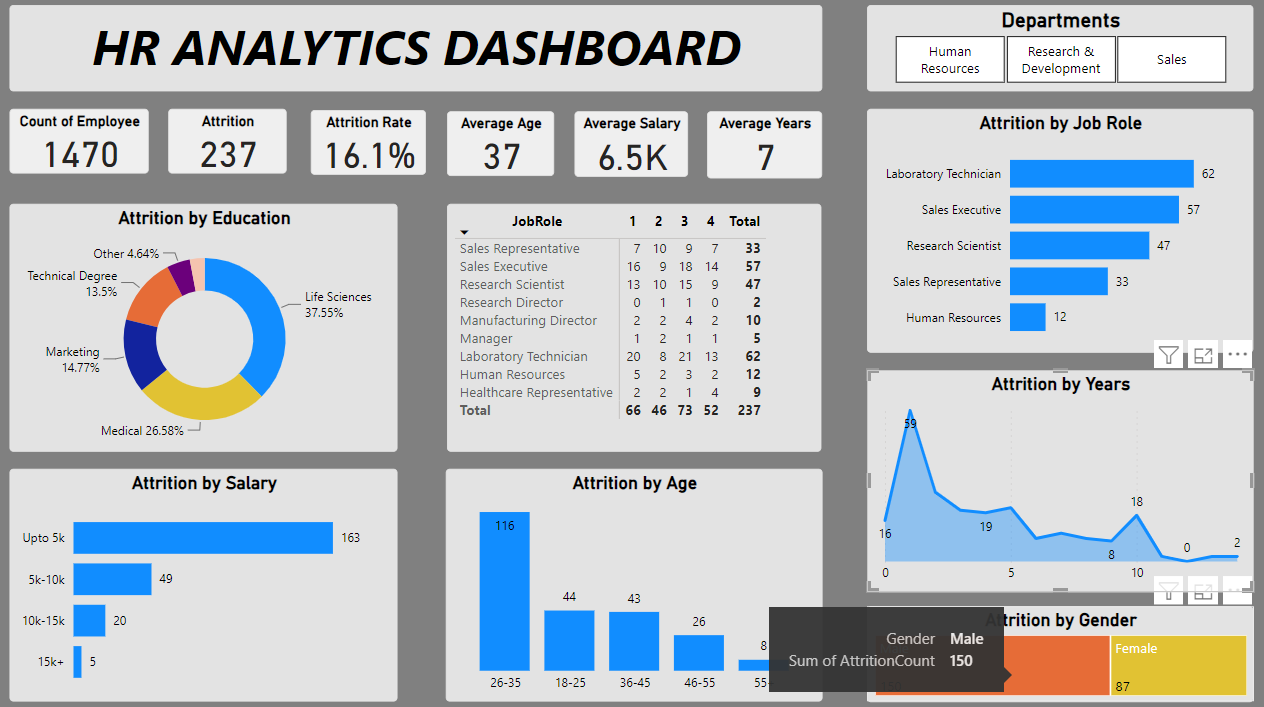

This screenshot's page, from the dashboard's own definition file:
{"tool":"powerbi","page":{"name":"Page 1","canvas":[1280,720],"ordinal":0},"visuals":[{"type":"card","title":"Count of Employee","fields":{"Values":["CountNonNull(HR_Analytics.EmpID)"]},"box":[17,113.8,139.4,64.9],"z":0},{"type":"card","title":"Attrition","fields":{"Values":["Sum(HR_Analytics.AttritionCount)"]},"box":[176.6,113.8,118.1,64.9],"z":1000},{"type":"card","title":"Attrition Rate","fields":{"Values":["HR_Analytics.AttritionRate"]},"box":[319.1,114.9,114.9,64.9],"z":2000},{"type":"card","title":"Average Age ","fields":{"Values":["Avg(HR_Analytics.Age)"]},"box":[455.3,116,107.4,64.9],"z":3000},{"type":"card","title":"Average Salary","fields":{"Values":["Avg(HR_Analytics.MonthlyIncome)"]},"box":[583,116,113.8,66],"z":4000},{"type":"card","title":"Average Years ","fields":{"Values":["Avg(HR_Analytics.YearsAtCompany)"]},"box":[714.9,116,114.9,67],"z":5000},{"type":"donutChart","title":"Attrition by Education","fields":{"Category":["HR_Analytics.EducationField"],"Y":["Sum(HR_Analytics.AttritionCount)"]},"box":[17,208.5,388.3,247.9],"z":6000},{"type":"columnChart","title":"Attrition by Age","fields":{"Category":["HR_Analytics.AgeGroup"],"Y":["Sum(HR_Analytics.AttritionCount)"]},"box":[453.2,473.4,376.6,233],"z":7000},{"type":"pivotTable","fields":{"Rows":["HR_Analytics.JobRole"],"Columns":["HR_Analytics.JobSatisfaction"],"Values":["Sum(HR_Analytics.AttritionCount)"]},"box":[455.3,208.5,374.5,247.9],"z":8000},{"type":"barChart","title":"Attrition by Salary","fields":{"Category":["HR_Analytics.SalarySlab"],"Y":["Sum(HR_Analytics.AttritionCount)"]},"box":[17,473.4,388.3,233],"z":9000},{"type":"barChart","title":"Attrition by Job Role","fields":{"Category":["HR_Analytics.JobRole"],"Y":["Sum(HR_Analytics.AttritionCount)"]},"box":[875.5,113.8,386.2,243.6],"z":10000},{"type":"areaChart","title":"Attrition by Years","fields":{"Category":["HR_Analytics.YearsAtCompany"],"Y":["Sum(HR_Analytics.AttritionCount)"]},"box":[875,375,386.2,222.5],"z":11000},{"type":"treemap","title":"Attrition by Gender","fields":{"Group":["HR_Analytics.Gender"],"Values":["Sum(HR_Analytics.AttritionCount)"]},"box":[875.5,610.6,386.2,95.7],"z":12000},{"type":"slicer","title":"Departments","fields":{"Values":["HR_Analytics.Department"]},"box":[875.5,9.6,386.2,86.2],"z":13000},{"type":"textbox","box":[17,9.6,812.8,86.2],"z":14000}]}

Visuals, with their boxes in screenshot pixels (x1, y1, x2, y2), scaled from the page's 1280x720 canvas onto the 1264x707 screenshot:
"Count of Employee" card: region(17, 112, 154, 175)
"Attrition" card: region(174, 112, 291, 175)
"Attrition Rate" card: region(315, 113, 429, 177)
"Average Age " card: region(450, 114, 556, 178)
"Average Salary" card: region(576, 114, 688, 179)
"Average Years " card: region(706, 114, 819, 180)
"Attrition by Education" donutChart: region(17, 205, 400, 448)
"Attrition by Age" columnChart: region(448, 465, 819, 694)
pivotTable - HR_Analytics.JobRole x HR_Analytics.JobSatisfaction: region(450, 205, 819, 448)
"Attrition by Salary" barChart: region(17, 465, 400, 694)
"Attrition by Job Role" barChart: region(865, 112, 1246, 351)
"Attrition by Years" areaChart: region(864, 368, 1245, 587)
"Attrition by Gender" treemap: region(865, 600, 1246, 694)
"Departments" slicer: region(865, 9, 1246, 94)
textbox: region(17, 9, 819, 94)
